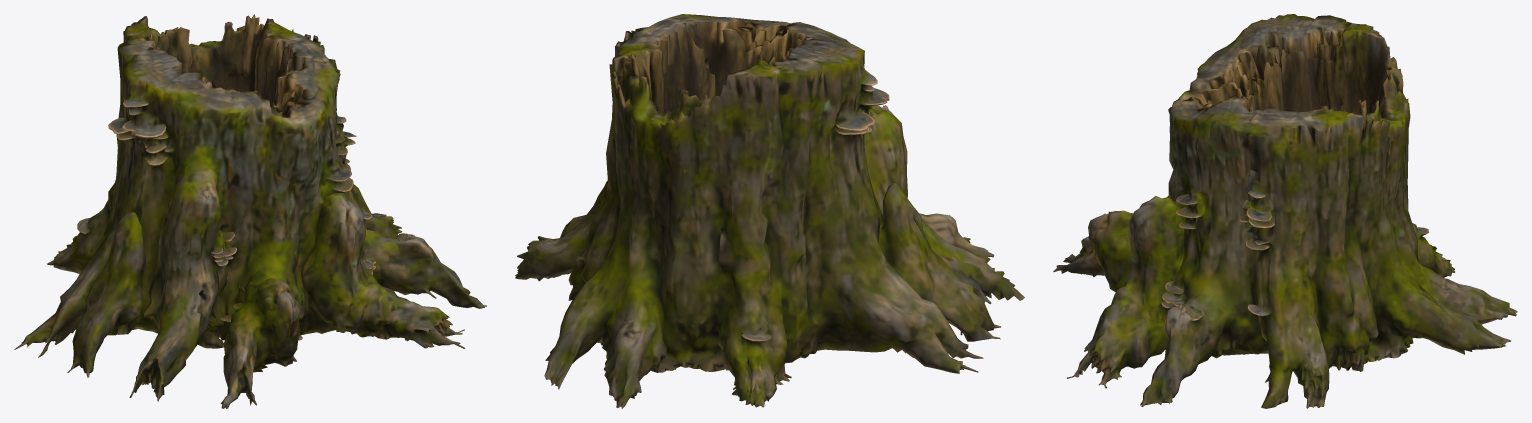
File: swamp_3.glb
3 renders of one model, left to right at view 1: azimuth 30°, elevation 25°; view 2: azimuth 150°, elevation 25°; view 3: azimuth 270°, elevation 25°, orthographic. The views are drawn at different scales.
Visible parts, largest first — view 1: geometry_0; view 2: geometry_0; view 3: geometry_0.
Boxes of the visible parts, x1=… form: geometry_0: x1=14, y1=14, x2=486, y2=408; geometry_0: x1=515, y1=14, x2=1024, y2=408; geometry_0: x1=1053, y1=14, x2=1517, y2=408.
Size of the model in its own units: 0.9507 by 0.5933 by 0.9399.
Materials: 1 (1 with a texture image).
